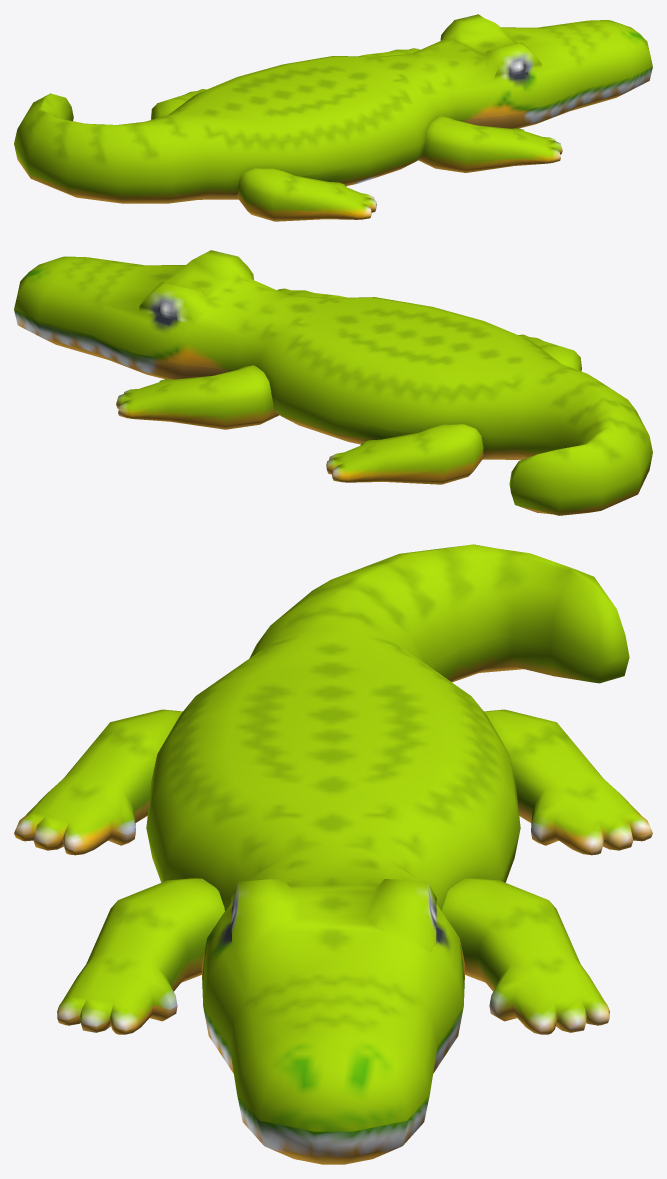
Rendered from Phao11.fbx.
3 renders of one model, top to bottom at view 1: azimuth 30°, elevation 25°; view 2: azimuth 150°, elevation 25°; view 3: azimuth 270°, elevation 25°, orthographic. The views are drawn at different scales.
Visible parts, largest first — view 1: Floatie_Crocodile_1_M_FloatiesPack02_B_0.001; view 2: Floatie_Crocodile_1_M_FloatiesPack02_B_0.001; view 3: Floatie_Crocodile_1_M_FloatiesPack02_B_0.001.
Part boxes in pixels (x1=…): Floatie_Crocodile_1_M_FloatiesPack02_B_0.001: x1=14, y1=14, x2=652, y2=221; Floatie_Crocodile_1_M_FloatiesPack02_B_0.001: x1=14, y1=250, x2=652, y2=515; Floatie_Crocodile_1_M_FloatiesPack02_B_0.001: x1=14, y1=544, x2=652, y2=1164.
Size of the model in its own units: 2.19 by 0.2925 by 1.11.
